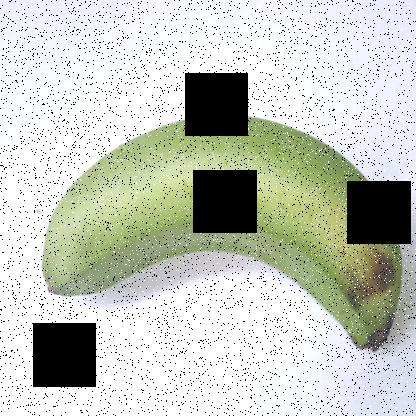freshunripe: (31, 104, 413, 375)
